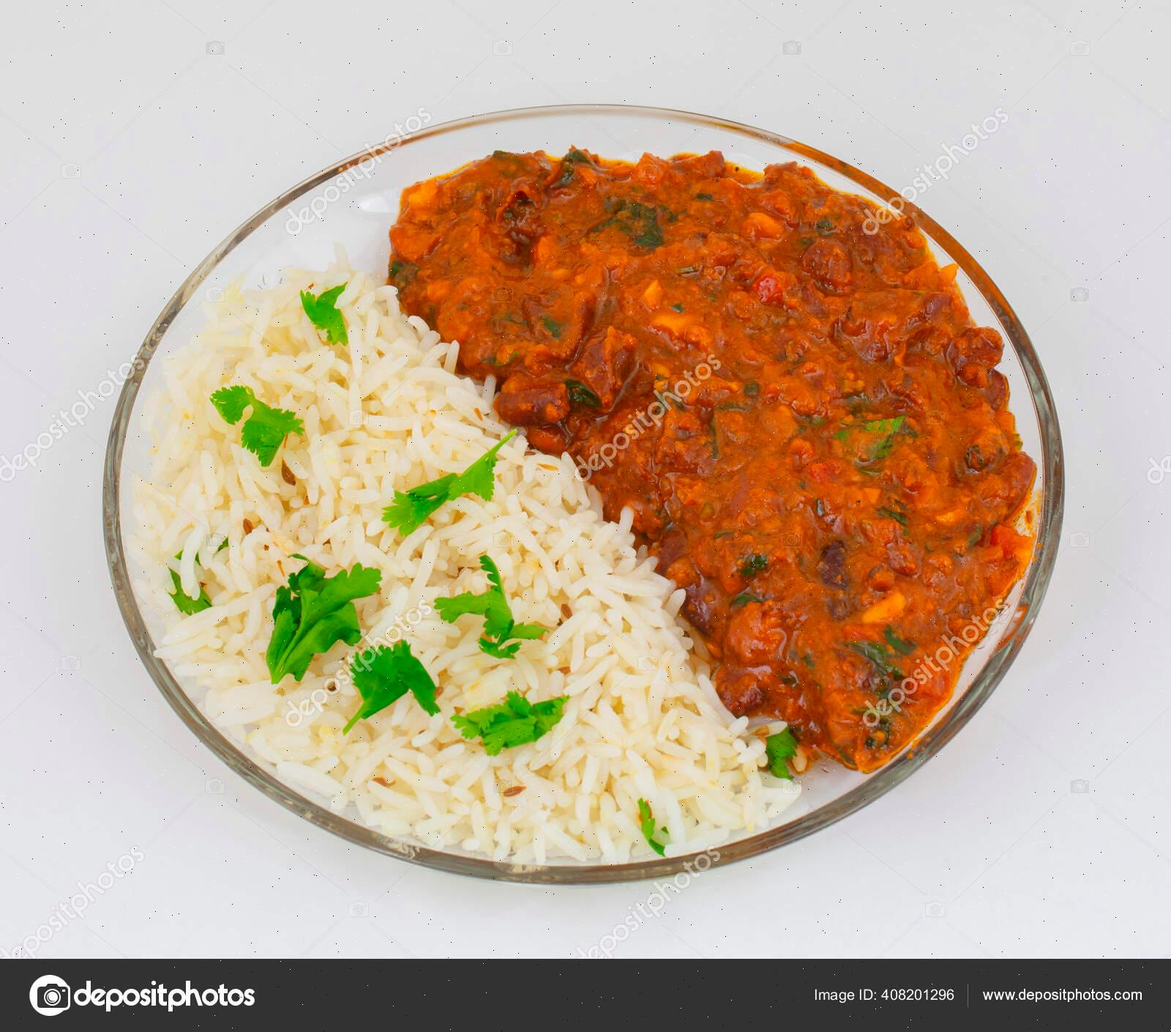rajma: (603, 178, 1073, 578)
rice: (146, 425, 600, 876)
